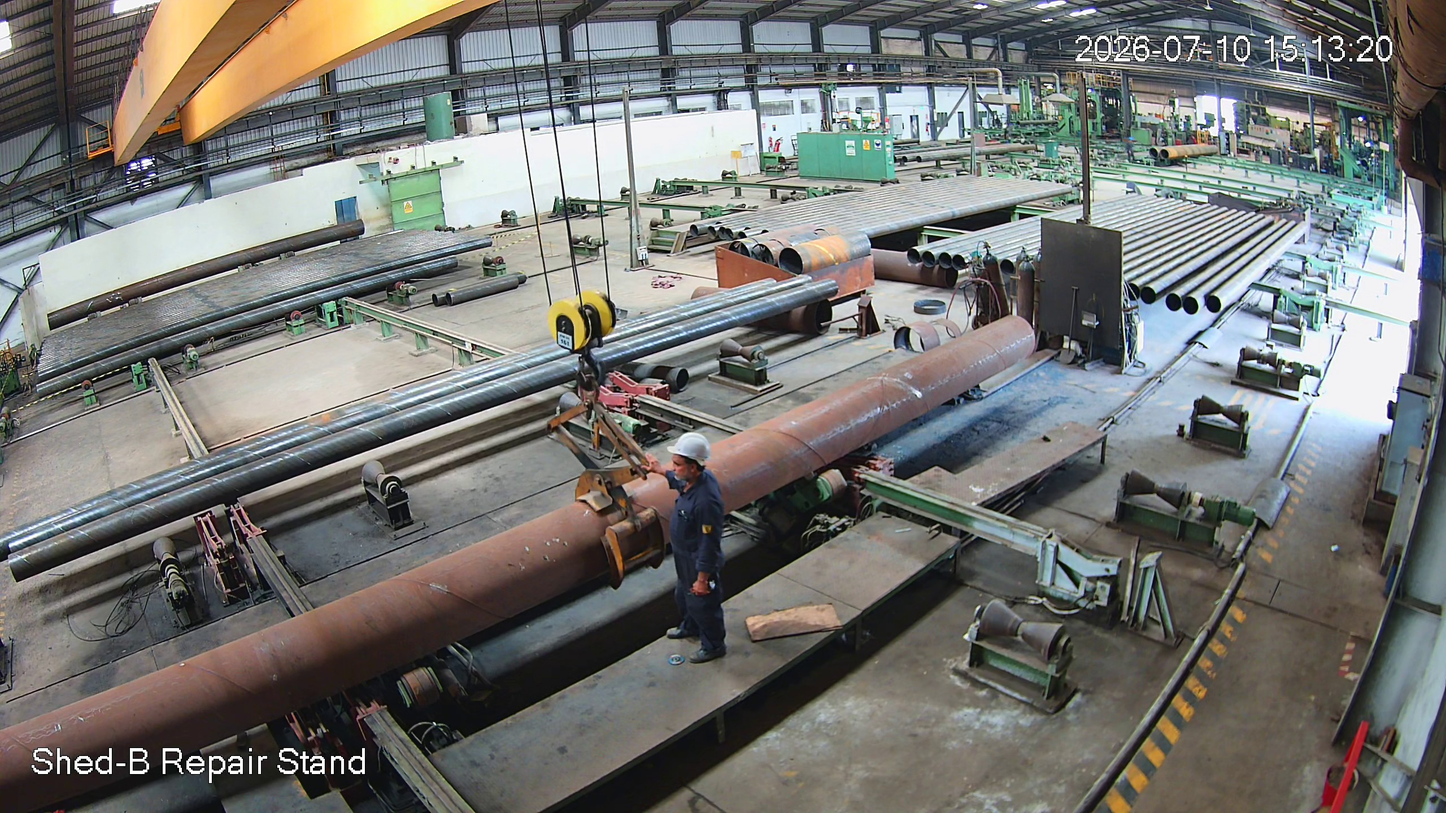Helmet: (668, 426, 724, 492)
Person: (662, 430, 733, 672)
